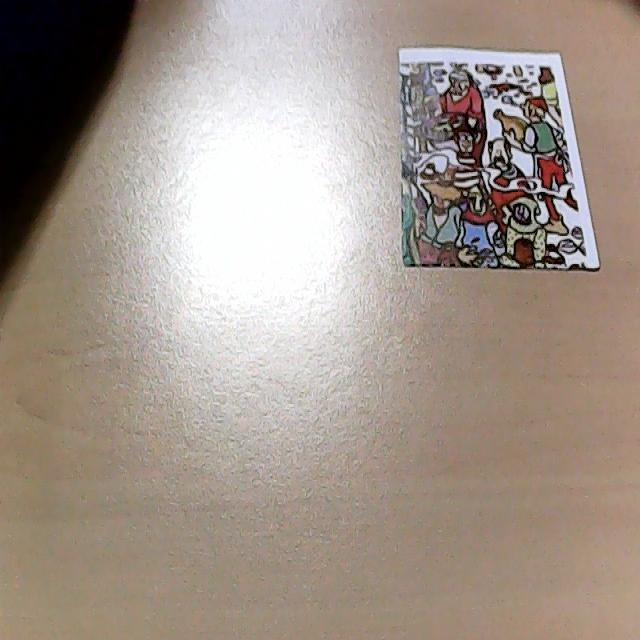waldo: (449, 116, 477, 156)
